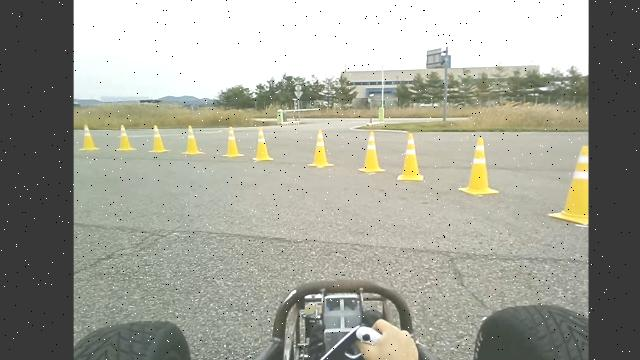yellow cone: (547, 144, 589, 226), (458, 136, 499, 196), (396, 132, 424, 181), (358, 130, 386, 173), (307, 128, 333, 168), (221, 125, 244, 158), (252, 127, 273, 162), (181, 124, 203, 155), (148, 124, 170, 153), (78, 123, 99, 151), (115, 124, 136, 151)
